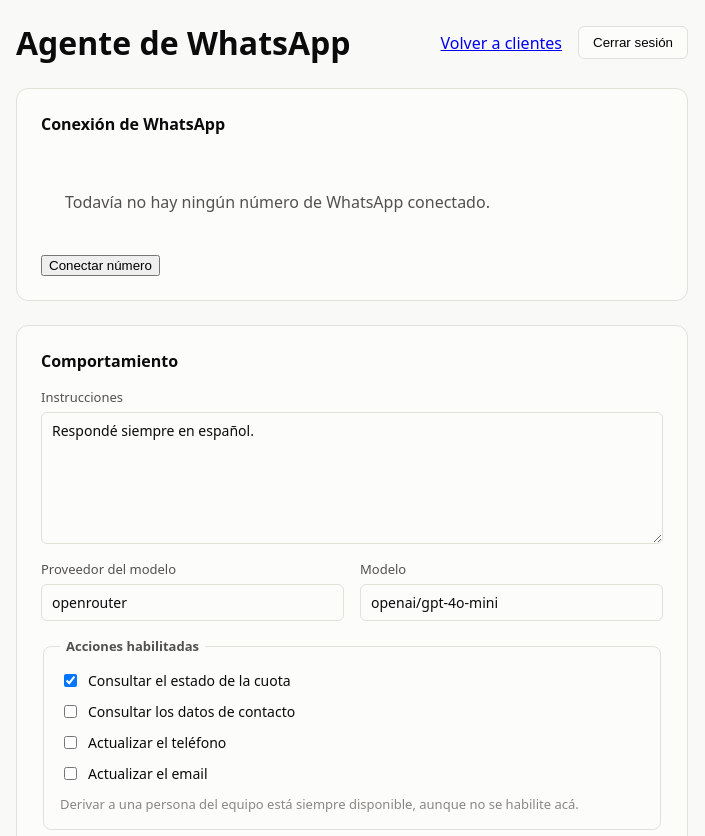
Scenario: AgentConfigPage › guardar manda el PUT con el body armado desde el formulario
This screenshot has width=705, height=836.
Type "openai/gpt-4o" into the field showing "openai/gpt-4o-mini".
click(512, 602); type("openai/gpt-4o")  # box 360,584 -> 663,621
(page scrolled)
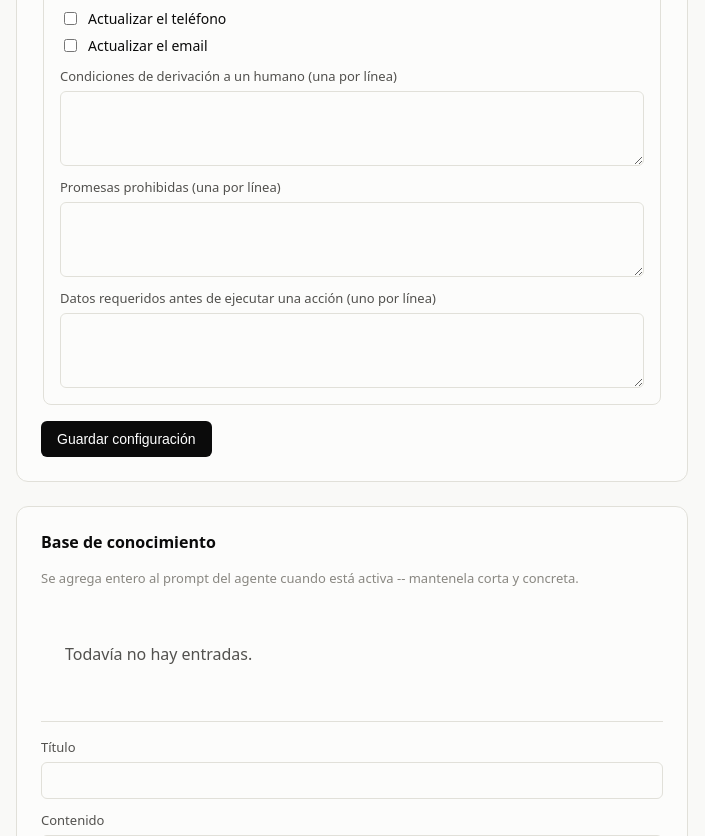
Click the button "Guardar configuración".
click(126, 439)  # box 41,421 -> 212,457
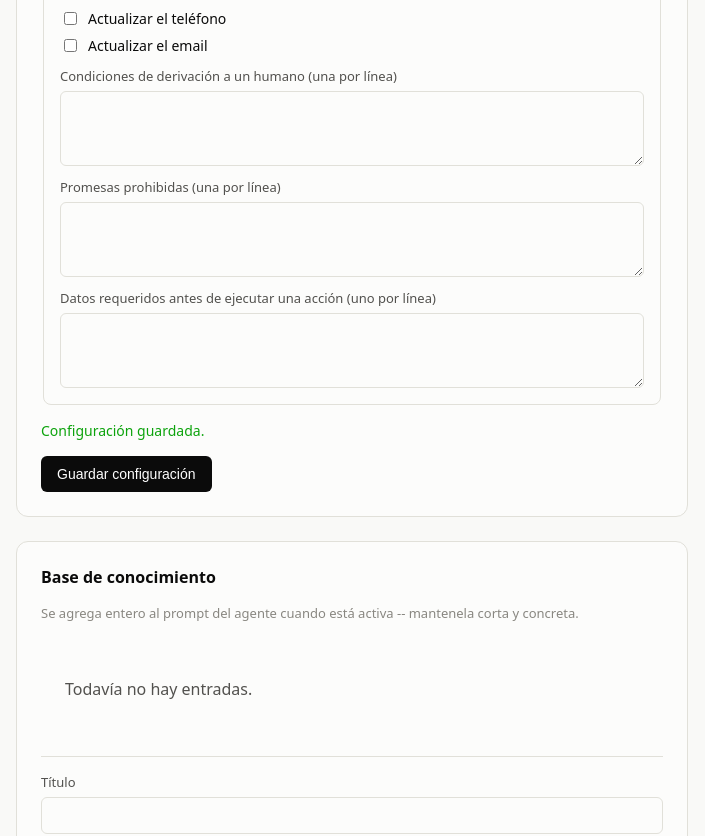
Expected: the text "Configuración guardada." is shown, 41,421 -> 204,440
